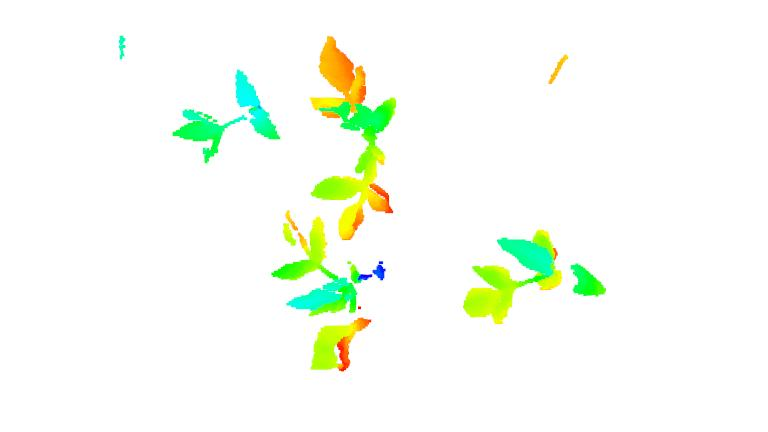mungbean: (301, 36, 409, 239), (273, 213, 377, 377), (461, 231, 610, 326), (170, 68, 283, 166)
